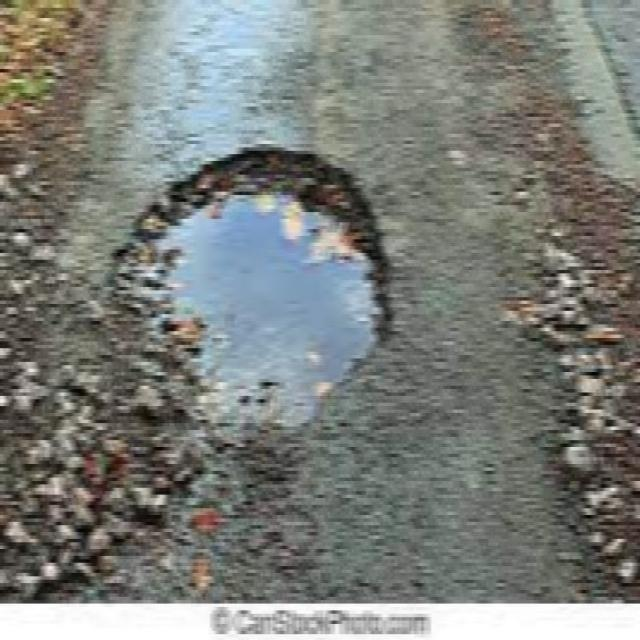Pothole: (101, 132, 404, 454)
